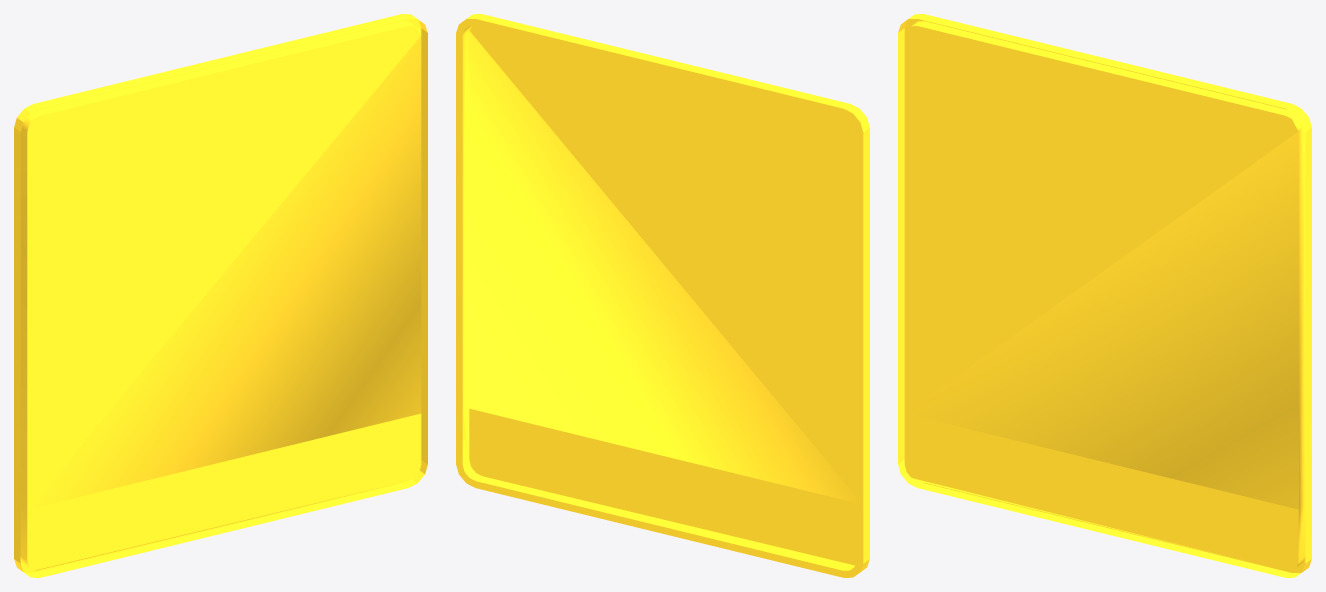
File: highlight_frame_full.glb
3 renders of one model, left to right at view 1: azimuth 30°, elevation 25°; view 2: azimuth 150°, elevation 25°; view 3: azimuth 330°, elevation 25°, orthographic.
Visible parts, largest first — view 1: title_plane.004; view 2: title_plane.004; view 3: title_plane.004.
Part boxes in pixels (box(x1,y1,x2,y2)): title_plane.004: box(14, 14, 427, 577); title_plane.004: box(456, 14, 869, 577); title_plane.004: box(898, 14, 1311, 577).
Size of the model in its own units: 3.09 by 3.4 by 0.0875.
